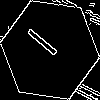I: (25, 25, 67, 65)
